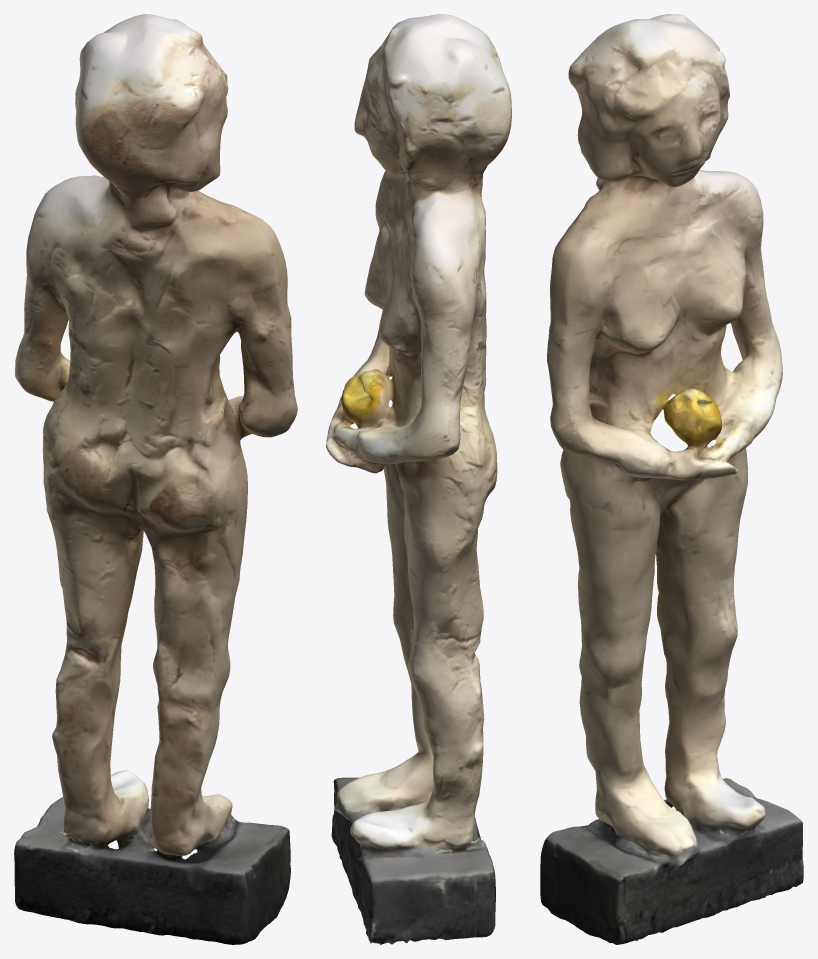
3 views of the same model, side by side, from view 1: azimuth 30°, elevation 25°; view 2: azimuth 150°, elevation 25°; view 3: azimuth 270°, elevation 25° (orthographic). The views are drawn at different scales.
Visible parts, largest first — view 1: Mesh_0; view 2: Mesh_0; view 3: Mesh_0.
Boxes of the visible parts, left/top/right/bottom form: Mesh_0: left=14, top=14, right=297, bottom=944; Mesh_0: left=326, top=14, right=511, bottom=944; Mesh_0: left=540, top=14, right=803, bottom=944.
Size of the model in its own units: 0.6912 by 2.67 by 0.732.
Materials: 5 (4 with a texture image).
